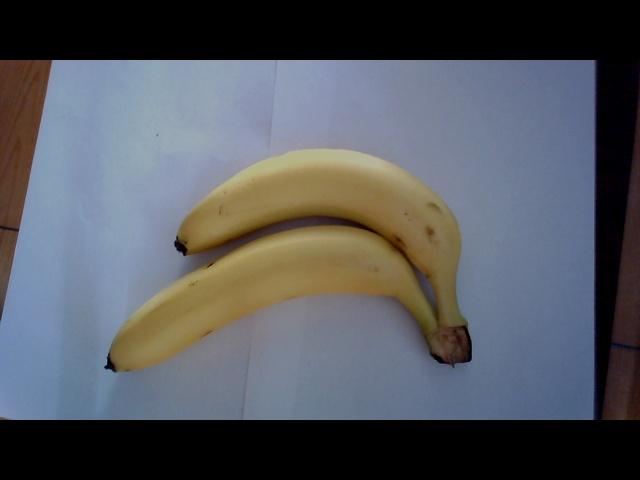banana: (107, 140, 473, 373)
